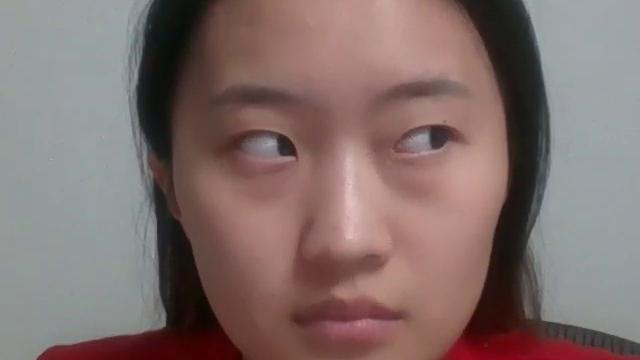eye: (277, 129, 305, 159), (429, 122, 456, 152)
iris: (234, 131, 297, 158), (395, 125, 450, 154)
